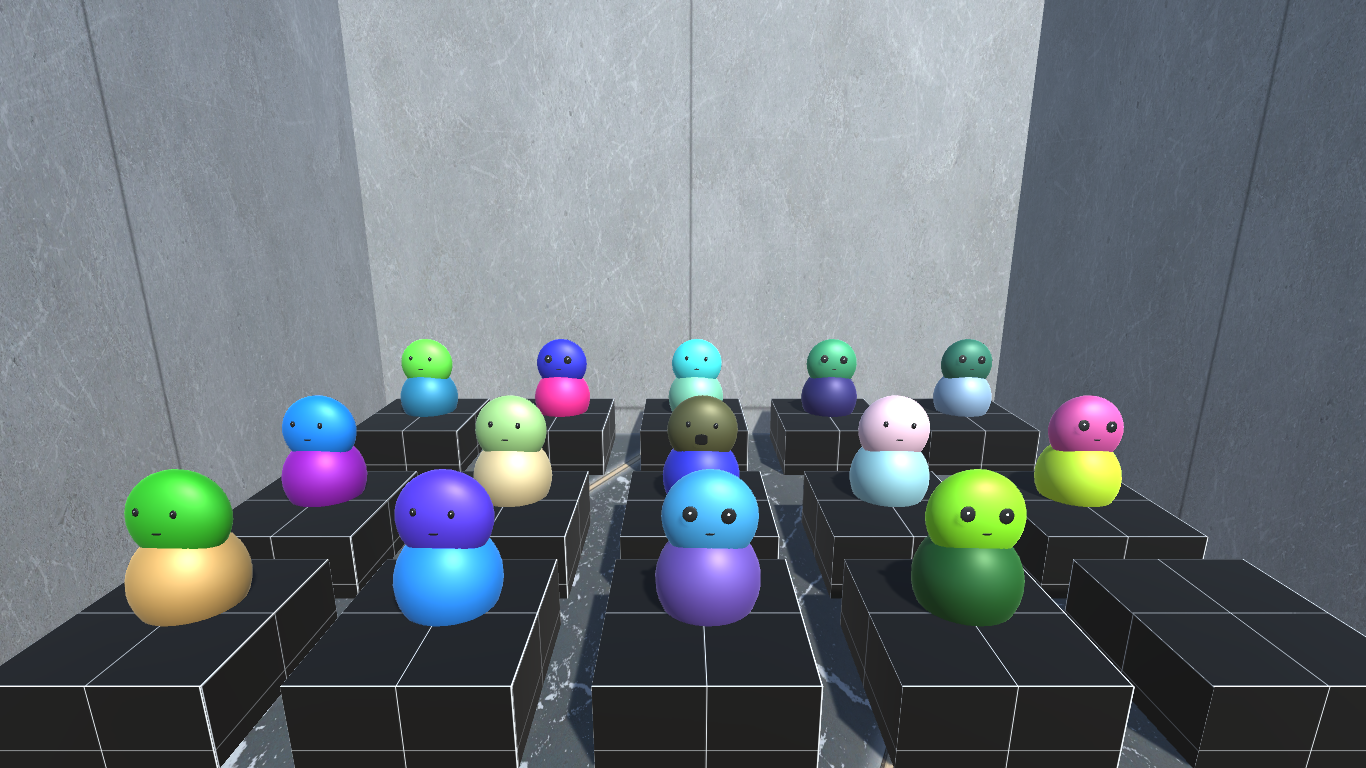blob_atento: (921, 465, 1030, 551), (659, 467, 761, 547), (1045, 390, 1126, 454), (936, 335, 992, 383), (803, 335, 859, 381), (534, 336, 589, 380)
blob_normal: (117, 461, 240, 561), (387, 469, 501, 552), (277, 394, 364, 458), (468, 390, 552, 453), (856, 391, 936, 455), (669, 335, 724, 382), (395, 336, 454, 379)
blob_surpreso: (658, 393, 745, 455)
